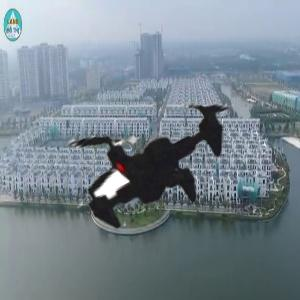drone: (23, 25, 279, 281)
